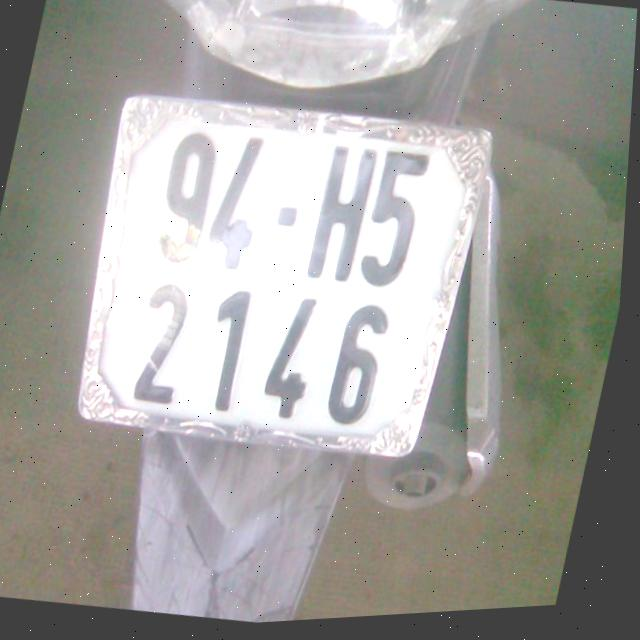motorcycle: (0, 0, 599, 639)
plate: (53, 70, 487, 475)
